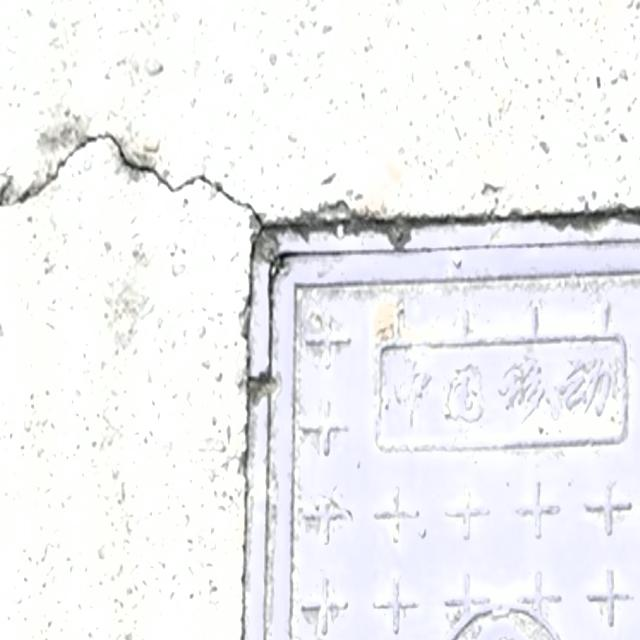broke: (231, 212, 640, 640)
